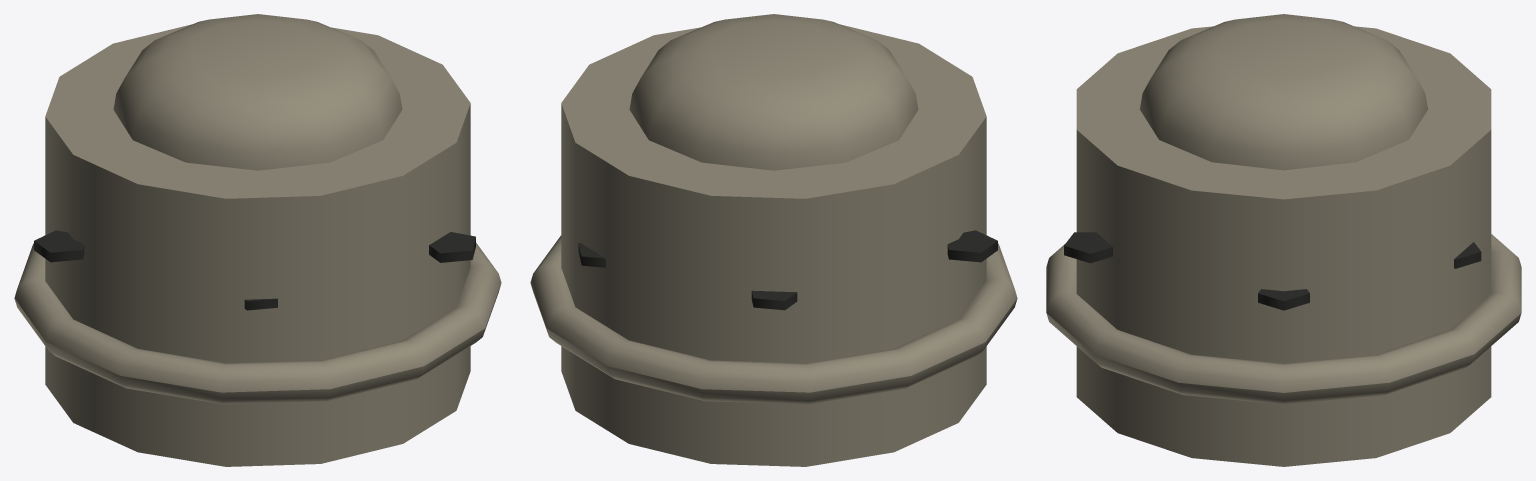
Rendered from tin_armor.obj.
The picture shows the model from 3 angles, left to right: view 1: azimuth 30°, elevation 25°; view 2: azimuth 150°, elevation 25°; view 3: azimuth 270°, elevation 25°; orthographic projection.
Visible parts, largest first — view 1: tin_armor; view 2: tin_armor; view 3: tin_armor.
Boxes of the visible parts, x1,y1,x2,y2 form: tin_armor: (14,14,501,466); tin_armor: (530,14,1017,466); tin_armor: (1046,14,1521,466).
Size of the model in its own units: 1.43 by 1.06 by 1.38.
